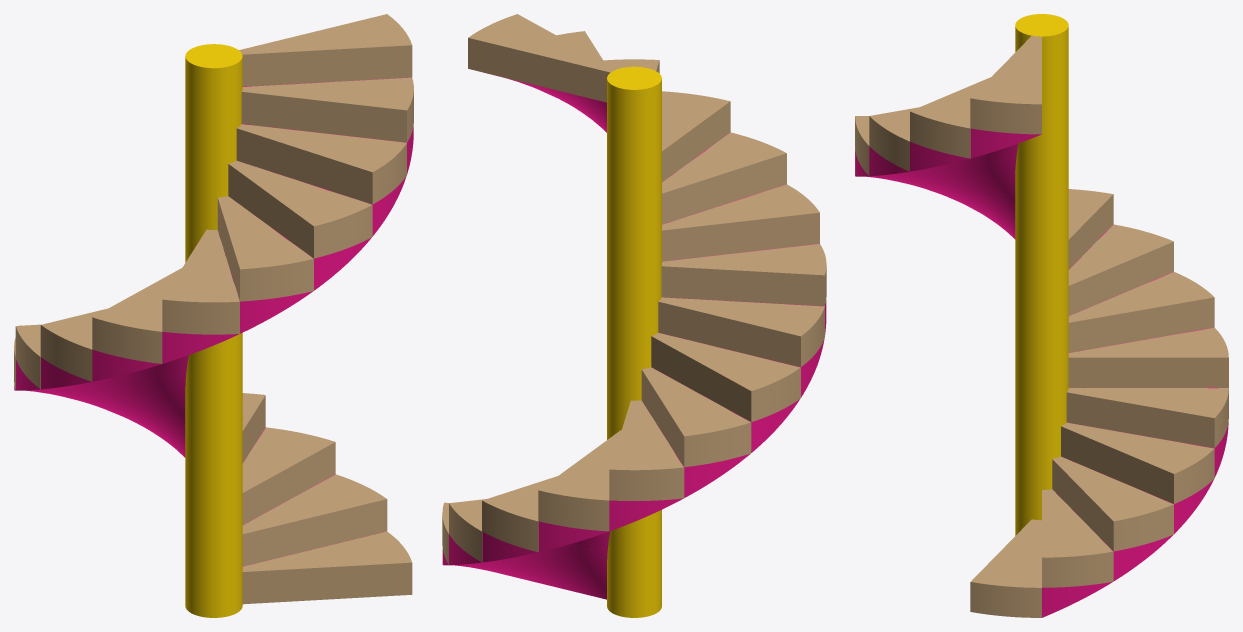
Rendered from stairs.glb.
The picture shows the model from 3 angles, left to right: view 1: azimuth 30°, elevation 25°; view 2: azimuth 150°, elevation 25°; view 3: azimuth 270°, elevation 25°; orthographic projection. The views are drawn at different scales.
Visible parts, largest first — view 1: steps, Column, strip; view 2: steps, Column, strip; view 3: steps, Column, strip.
Part boxes in pixels (x1,y1,x2,y2): steps: (14,14,413,604); Column: (185,44,242,617); strip: (14,77,413,564); steps: (442,14,826,564); Column: (607,66,661,617); strip: (442,72,826,599); steps: (855,36,1228,617); Column: (1015,14,1068,535); strip: (855,128,1228,617).
Bounding box in the file's own units: 28.02 × 42.5 × 28.02.
